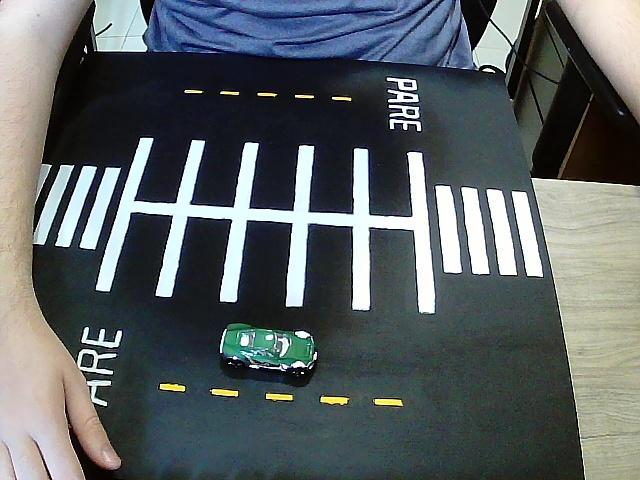Carro: (219, 325, 317, 380)
